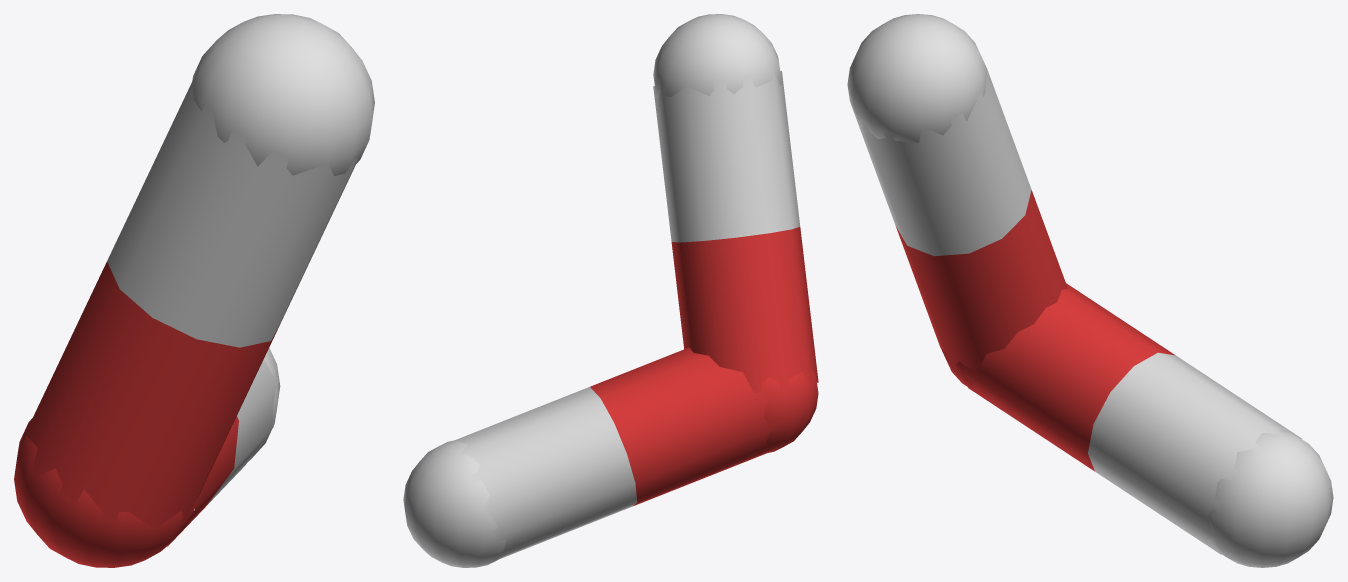
The model's file is water-sticks.glb.
3 renders of one model, left to right at view 1: azimuth 30°, elevation 25°; view 2: azimuth 150°, elevation 25°; view 3: azimuth 270°, elevation 25°, orthographic. The views are drawn at different scales.
Parts seen in each view (by area): view 1: water-sticks; view 2: water-sticks; view 3: water-sticks.
Boxes of the visible parts, box(x1,y1,x2,y2) form: water-sticks: box(14, 14, 374, 567); water-sticks: box(403, 14, 818, 567); water-sticks: box(847, 14, 1333, 567).
Size of the model in its own units: 1.01 by 1.53 by 1.37.
